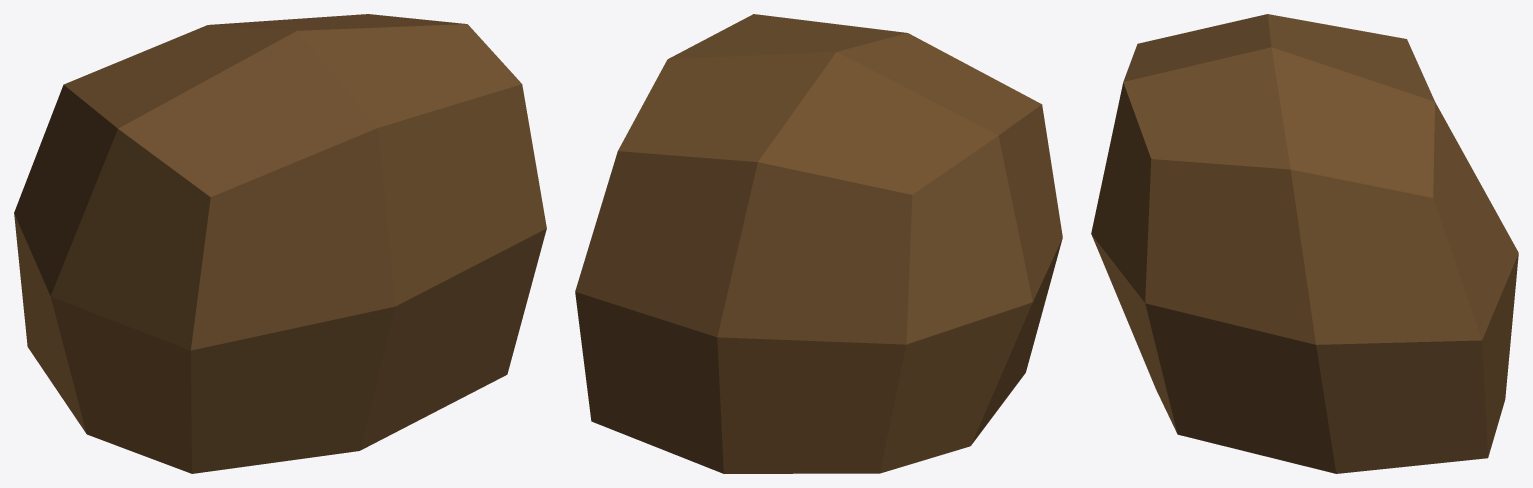
Rendered from pedra1.fbx.
3 renders of one model, left to right at view 1: azimuth 30°, elevation 25°; view 2: azimuth 150°, elevation 25°; view 3: azimuth 270°, elevation 25°, orthographic. The views are drawn at different scales.
Parts seen in each view (by area): view 1: Cubo; view 2: Cubo; view 3: Cubo.
Boxes of the visible parts, x1=… form: Cubo: x1=14, y1=14, x2=546, y2=473; Cubo: x1=575, y1=14, x2=1062, y2=473; Cubo: x1=1091, y1=14, x2=1518, y2=473.
Bounding box in the file's own units: 137 × 119 × 118.
